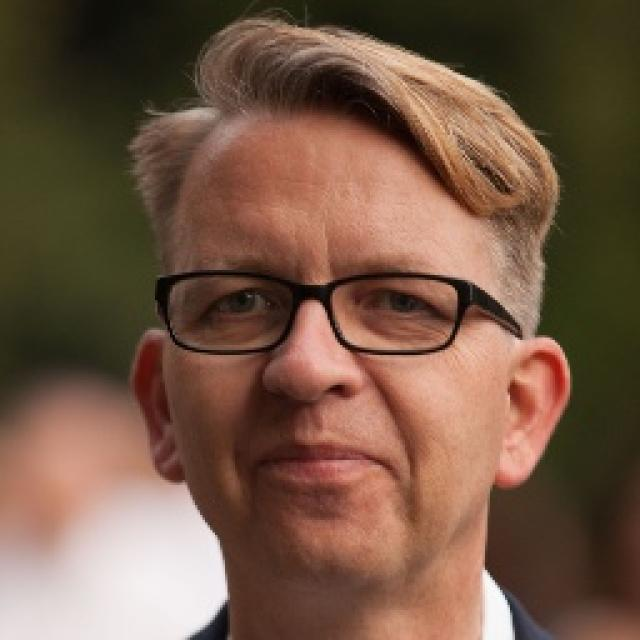earlobe: (492, 437, 534, 491), (148, 434, 188, 486)
eye: (211, 281, 273, 325), (364, 287, 440, 321)
nose: (261, 386, 366, 434)
wholeear: (492, 336, 570, 492), (132, 328, 188, 486)
